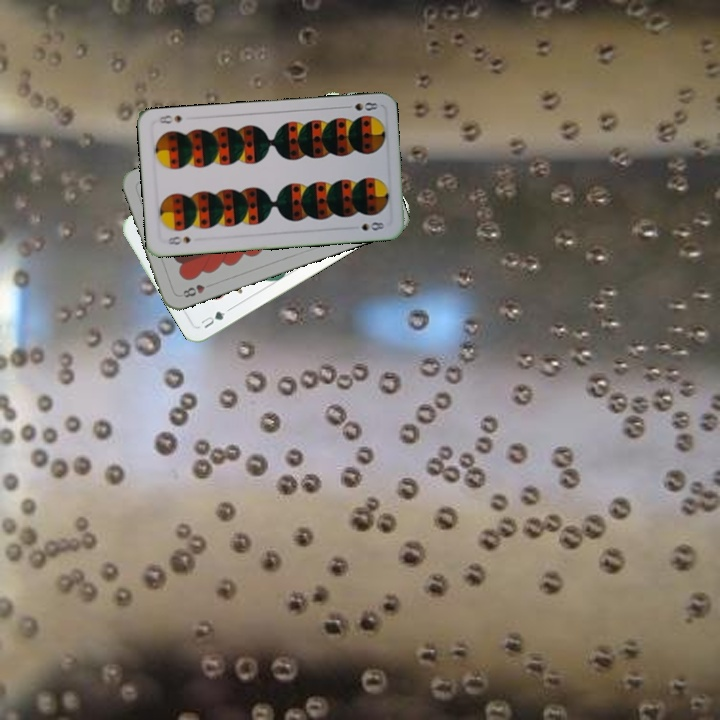GU: (197, 304, 233, 331)
H8: (179, 280, 207, 300)
S8: (340, 98, 380, 113), (163, 232, 193, 247)
